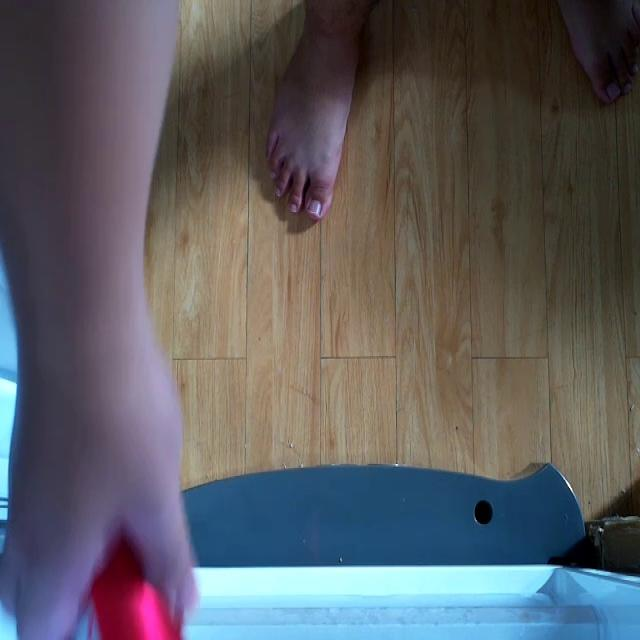coke: (90, 520, 182, 640)
